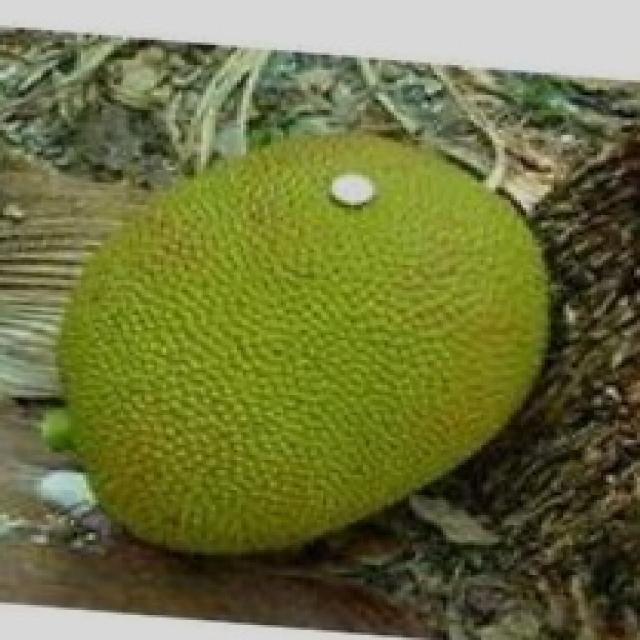Fruit: (215, 107, 588, 555)
